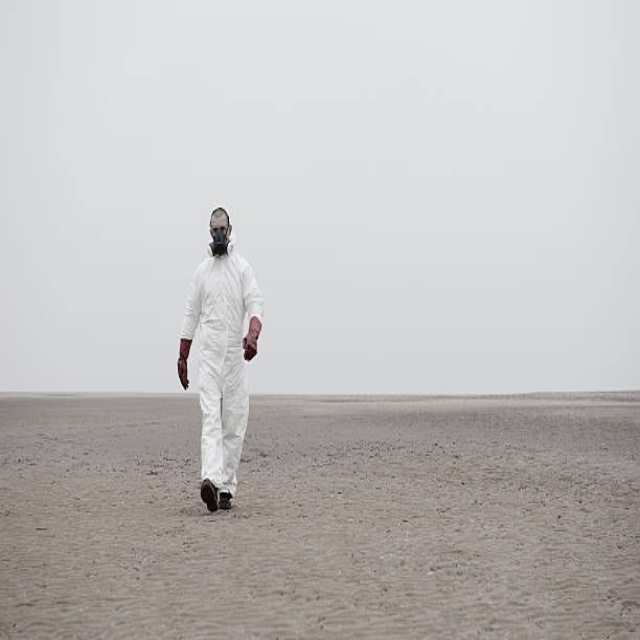Guantes: (177, 346, 190, 389), (243, 327, 259, 361)
Mascara: (204, 226, 234, 261)
